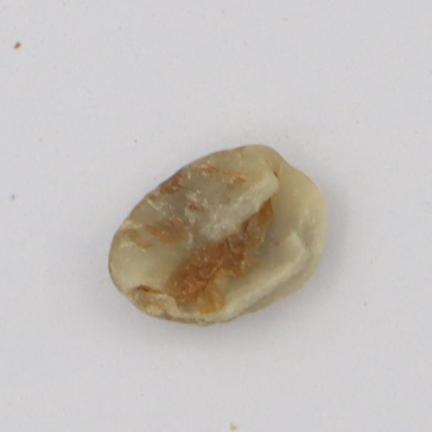cut: (109, 145, 325, 324)
